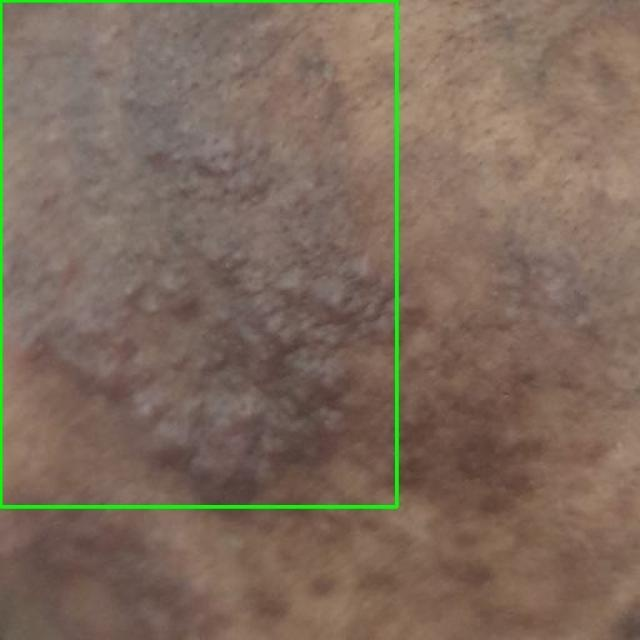Tinea Corporis: (0, 0, 396, 506)
